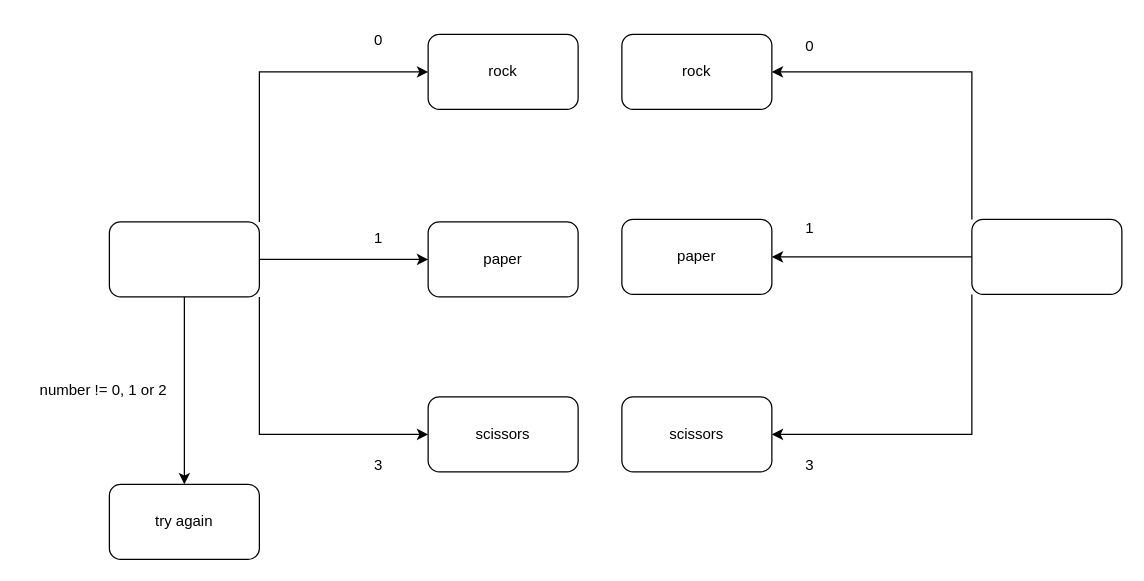
The diagram is 1144 pixels wide and 581 high, and some of its shapes have lost their labels. Here are the shapes that lost their labels. From the top down, the centre of each, then its label:
the point at 183,259: user choice
the point at 1046,256: computer choice
